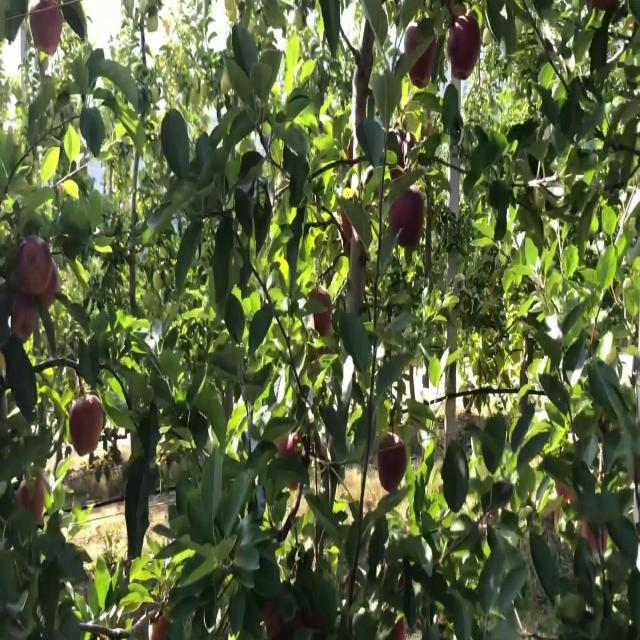apple: (16, 234, 60, 309), (444, 14, 483, 78), (404, 21, 435, 92), (68, 398, 104, 457), (16, 241, 53, 297), (28, 0, 64, 55), (392, 191, 425, 251), (380, 433, 409, 494), (28, 263, 61, 311), (16, 476, 47, 524), (388, 135, 418, 183), (12, 298, 39, 347), (580, 519, 607, 556), (312, 291, 333, 338), (40, 263, 60, 309), (260, 604, 284, 638), (340, 206, 357, 247), (556, 476, 578, 507), (280, 433, 303, 459), (396, 618, 408, 638)
